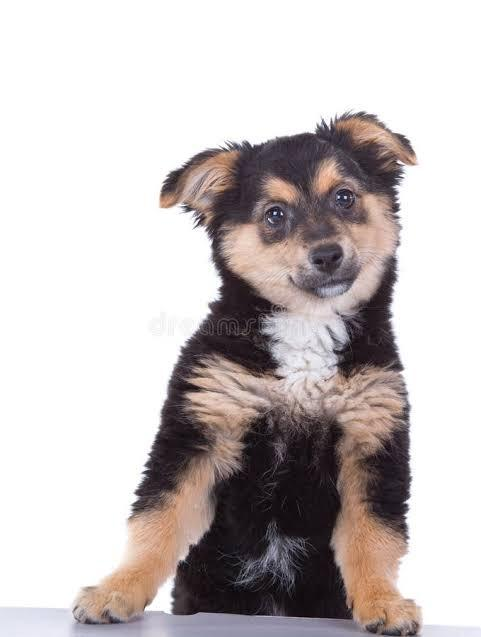puppy-dog: (69, 109, 426, 637)
